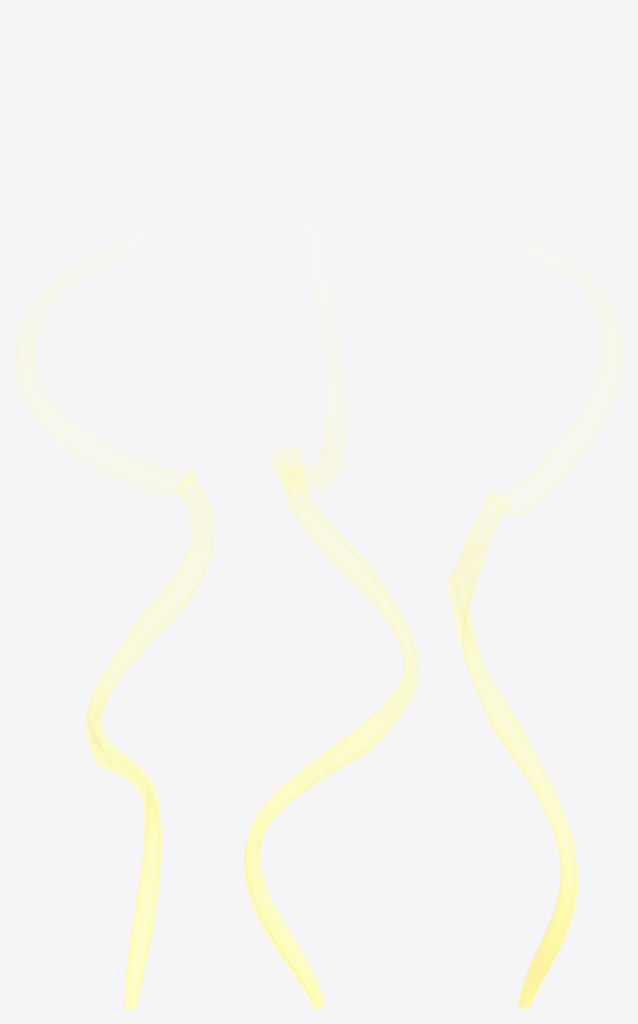
Rendered from strand_a_junction.glb.
The picture shows the model from 3 angles, left to right: view 1: azimuth 30°, elevation 25°; view 2: azimuth 150°, elevation 25°; view 3: azimuth 270°, elevation 25°; orthographic projection.
Size of the model in its own units: 1.23 by 9.02 by 1.45.
